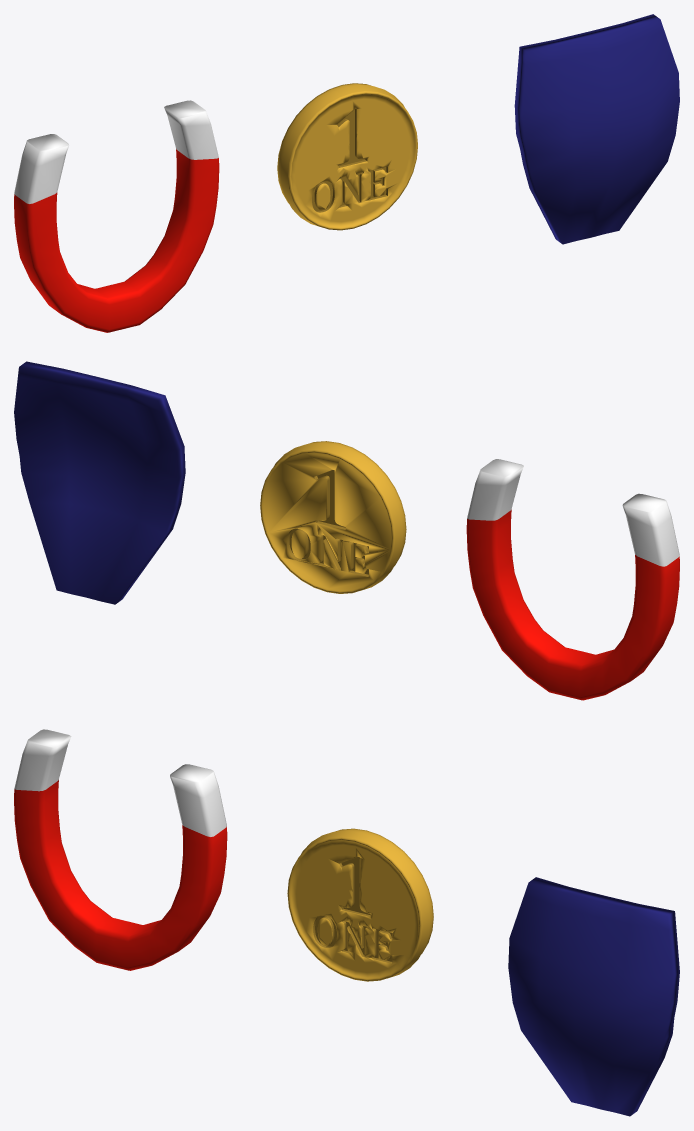
The model's file is Pickups.glb.
3 views of the same model, one above another, from view 1: azimuth 30°, elevation 25°; view 2: azimuth 150°, elevation 25°; view 3: azimuth 330°, elevation 25° (orthographic). The views are drawn at different scales.
Parts seen in each view (by area): view 1: Shield, Magnet, Coin; view 2: Shield, Magnet, Coin; view 3: Shield, Magnet, Coin.
Part boxes in pixels (<box>): Shield: <box>514,14,679,244</box>; Magnet: <box>14,100,219,332</box>; Coin: <box>277,83,417,230</box>; Shield: <box>14,361,185,604</box>; Magnet: <box>466,459,679,700</box>; Coin: <box>260,441,406,593</box>; Shield: <box>508,877,679,1116</box>; Magnet: <box>14,729,227,970</box>; Coin: <box>287,828,433,981</box>.
Size of the model in its own units: 16.92 by 5.57 by 1.84.
